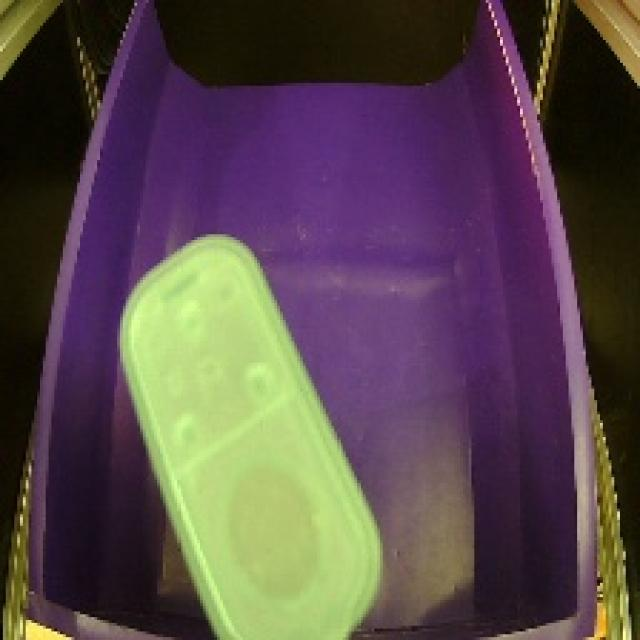metal: (103, 220, 394, 640)
